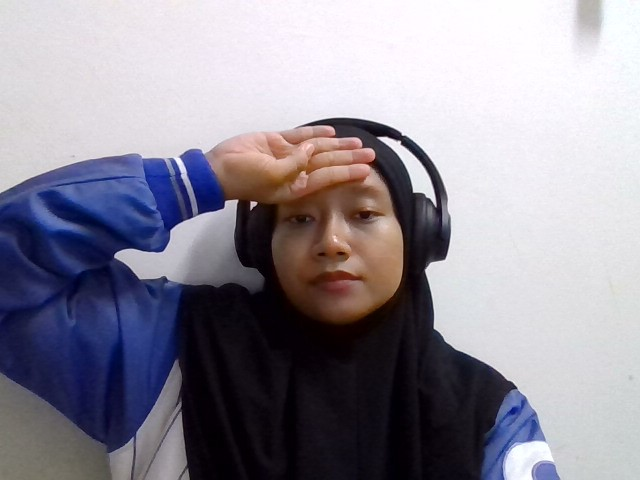Demam: (226, 125, 386, 229)
